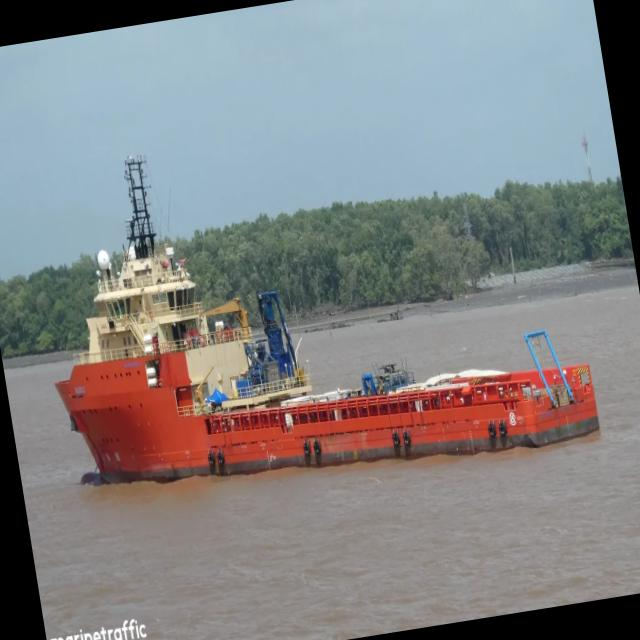Offshore: (55, 163, 599, 482)
